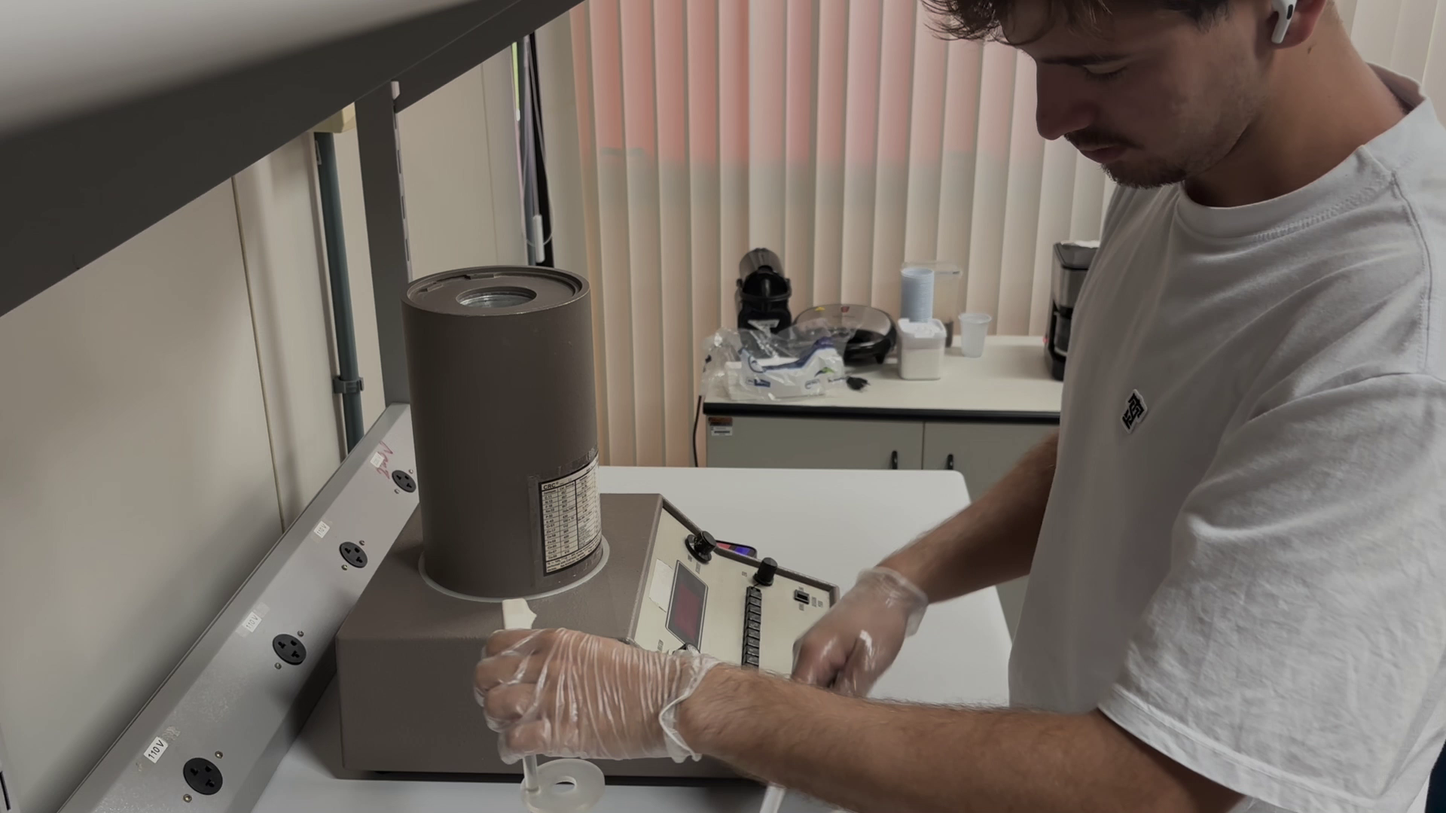Ativimetro: (399, 247, 610, 586)
Cesta: (493, 592, 615, 809)
Com_Luva: (474, 624, 715, 764), (790, 564, 945, 698)
